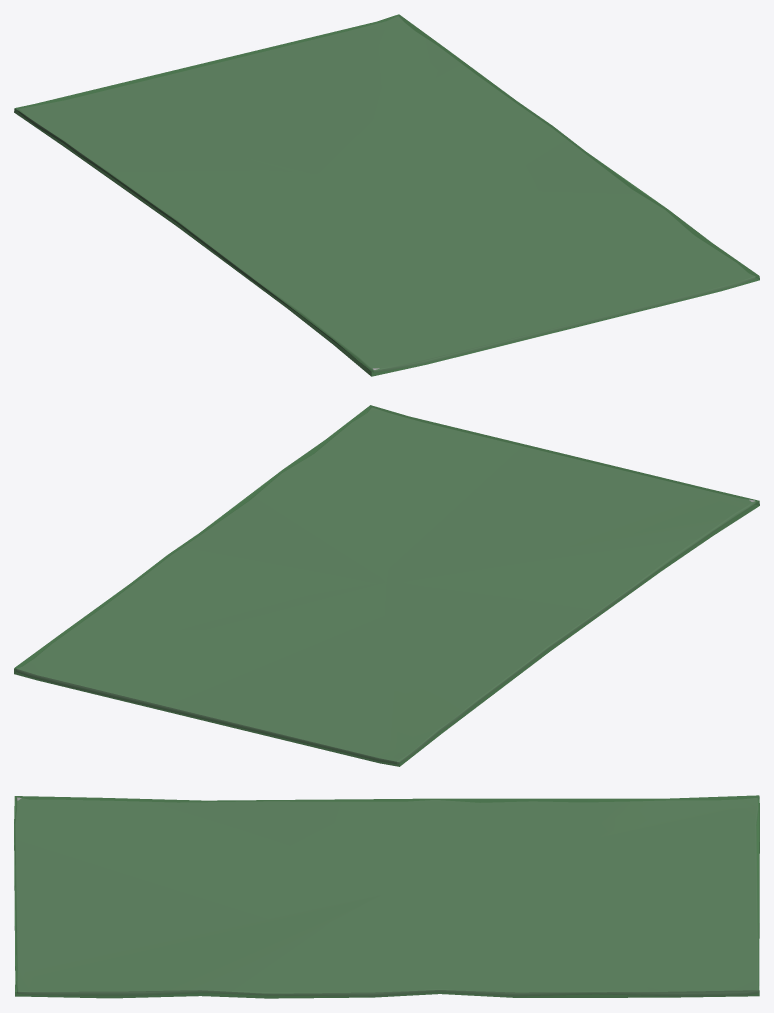
The model's file is Rug_01_Mesh.fbx.
3 renders of one model, top to bottom at view 1: azimuth 30°, elevation 25°; view 2: azimuth 150°, elevation 25°; view 3: azimuth 270°, elevation 25°, orthographic. The views are drawn at different scales.
Visible parts, largest first — view 1: OfficeRug_01_col, OfficeRug_01_LOD0; view 2: OfficeRug_01_col, OfficeRug_01_LOD0; view 3: OfficeRug_01_col, OfficeRug_01_LOD0.
Boxes of the visible parts, x1,y1,x2,y2 form: OfficeRug_01_col: [14, 14, 759, 376]; OfficeRug_01_LOD0: [18, 16, 755, 372]; OfficeRug_01_col: [14, 405, 759, 766]; OfficeRug_01_LOD0: [16, 408, 755, 763]; OfficeRug_01_col: [14, 795, 759, 998]; OfficeRug_01_LOD0: [15, 797, 758, 996].
Size of what is drawn, in the model's own units: 33780 by 716 by 54024.
